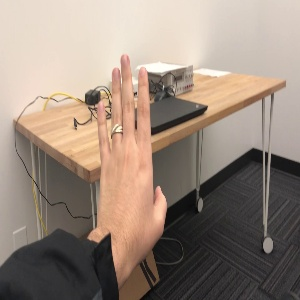hand: (97, 55, 167, 232)
